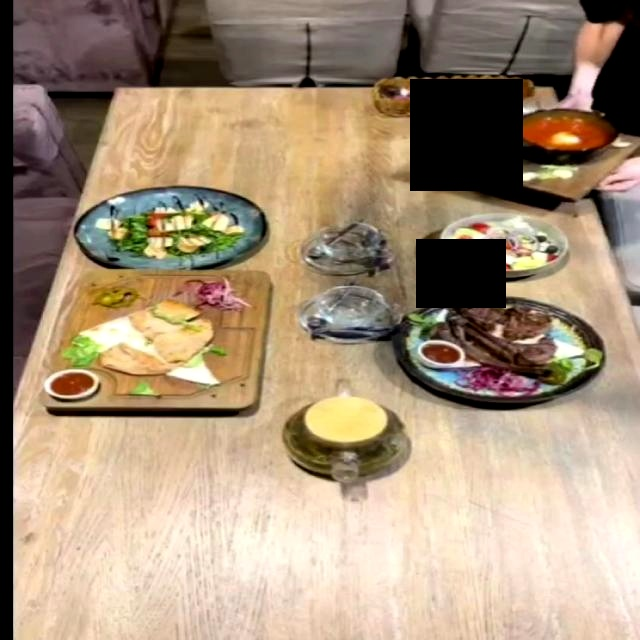meat: (36, 271, 270, 418), (392, 292, 607, 402)
salad: (71, 185, 263, 267), (438, 211, 570, 277)
soup: (523, 107, 625, 183)
tea: (280, 393, 410, 480)
